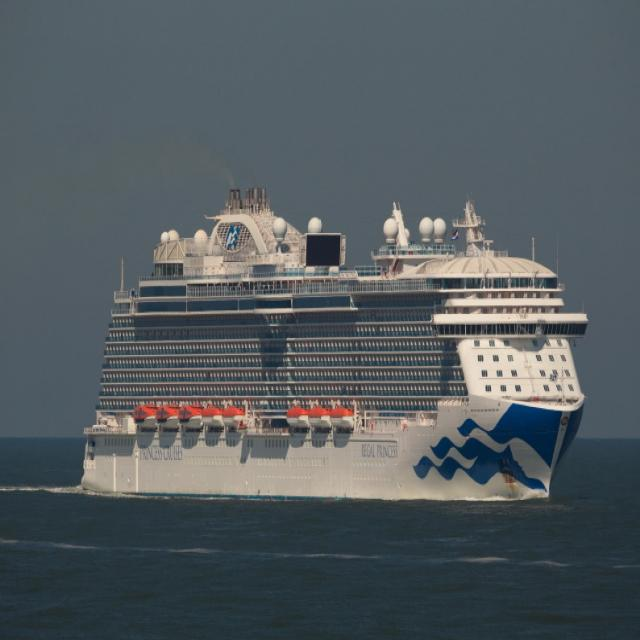cruises: (77, 184, 592, 515)
